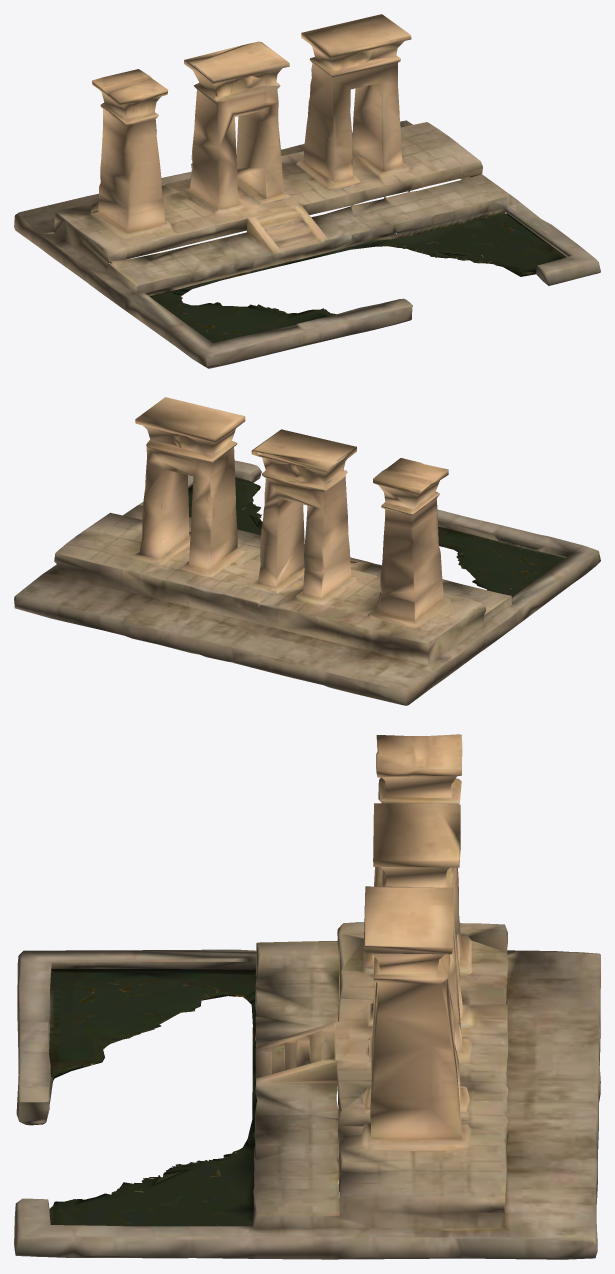
Rendered from madrid-debod.glb.
3 views of the same model, one above another, from view 1: azimuth 30°, elevation 25°; view 2: azimuth 150°, elevation 25°; view 3: azimuth 270°, elevation 25° (orthographic). The views are drawn at different scales.
Visible parts, largest first — view 1: geometry_0; view 2: geometry_0; view 3: geometry_0.
Part boxes in pixels (x1,y1,x2,y2): geometry_0: (14,14,600,368); geometry_0: (14,397,600,705); geometry_0: (14,734,600,1259).
Bounding box in the file's own units: 1 × 0.428 × 0.8594.
1 material, 1 textured.
